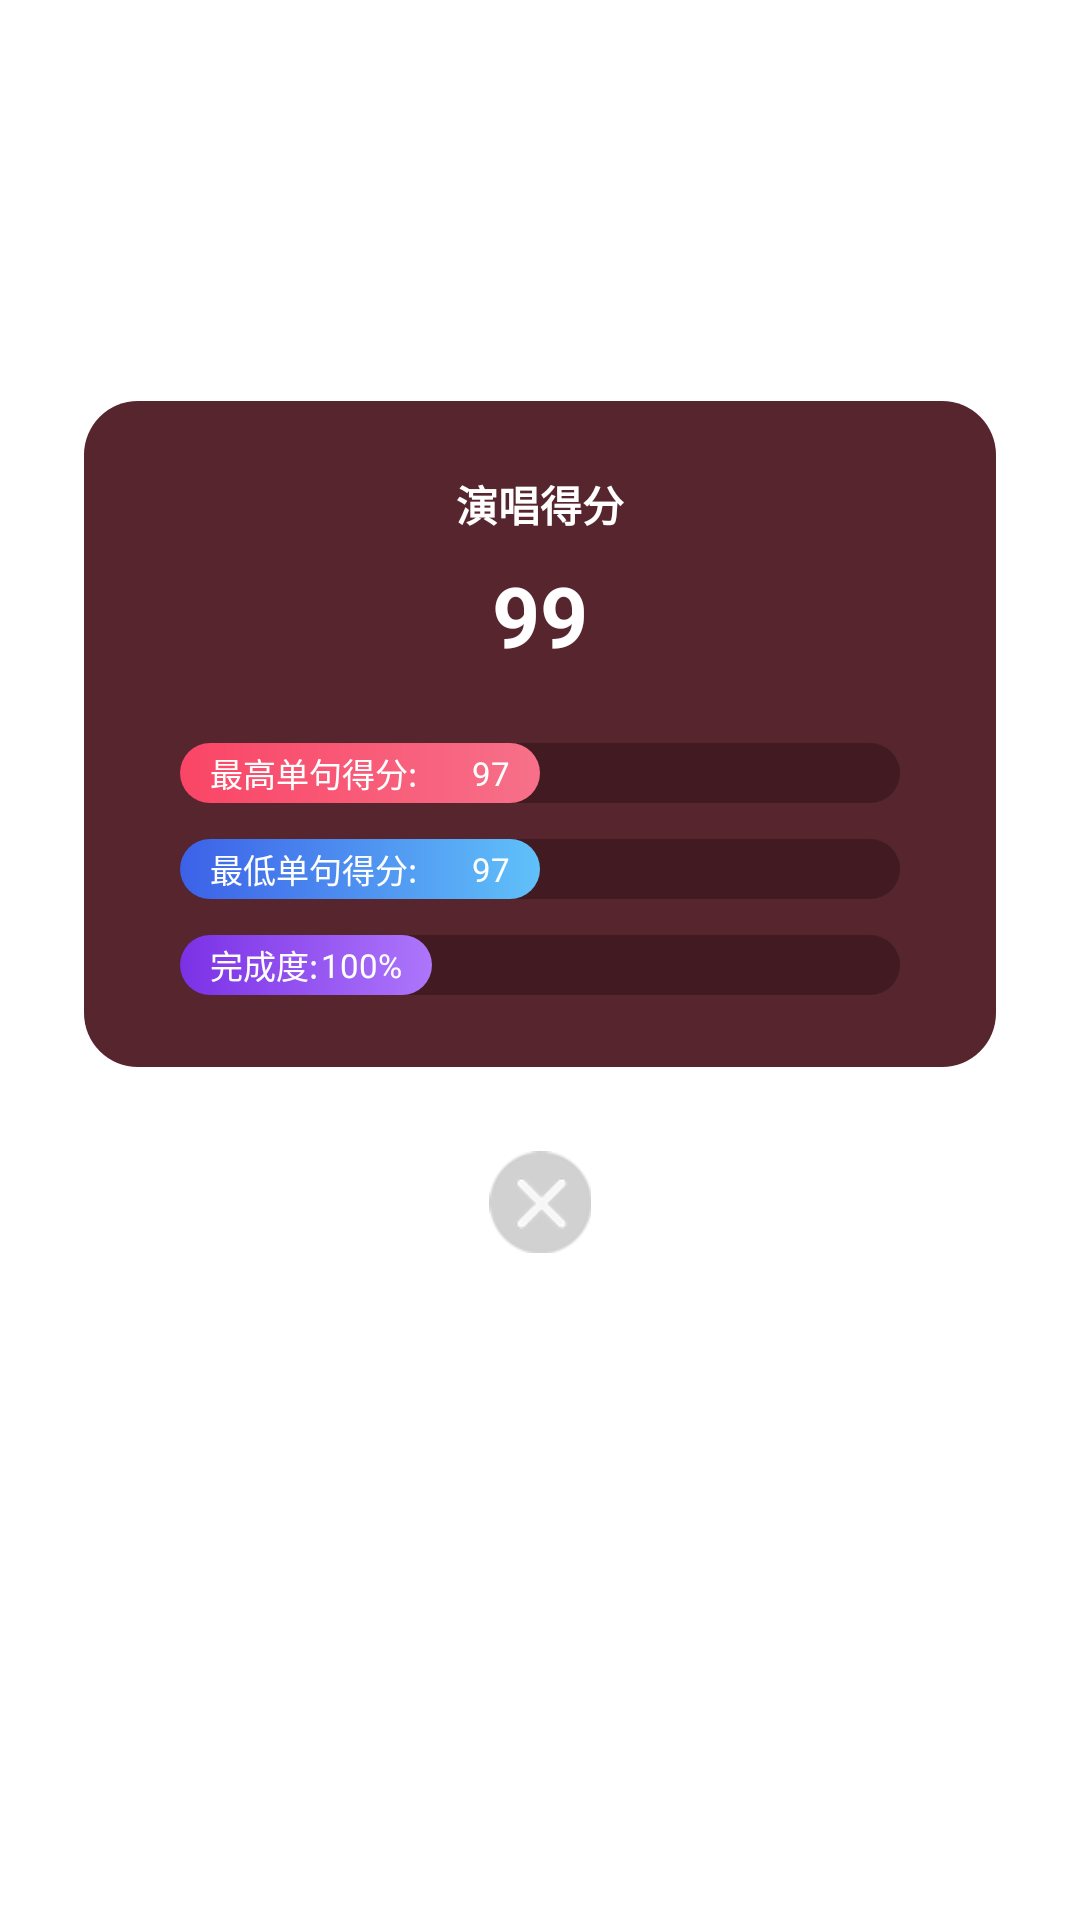

Screen size 1080x1920. Icon name, then its box in pixels as (x1, y1, x2, y2):
close: (489, 1151, 591, 1253)
